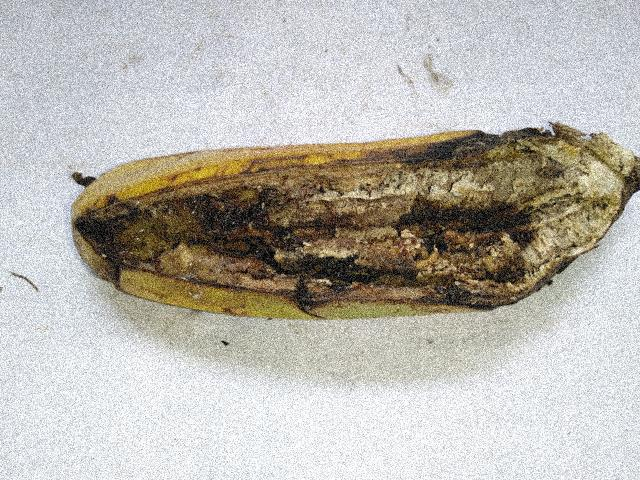rotten: (77, 158, 522, 346), (405, 104, 639, 321)
